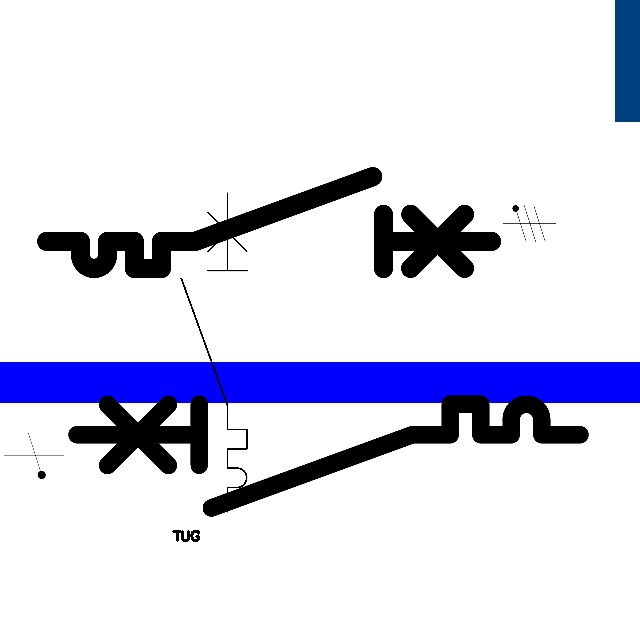interruptor_termomagnetico: (63, 391, 592, 520), (35, 165, 503, 280), (173, 185, 255, 520)
